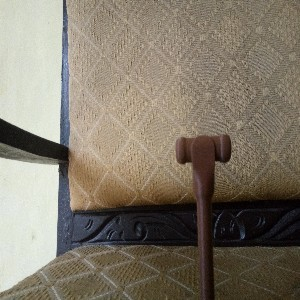palu: (175, 131, 232, 300)
